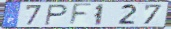1: (94, 3, 106, 27)
2: (118, 3, 140, 26)
7: (143, 4, 164, 26), (24, 4, 43, 26)
F: (68, 3, 94, 28)
P: (44, 4, 69, 26)
